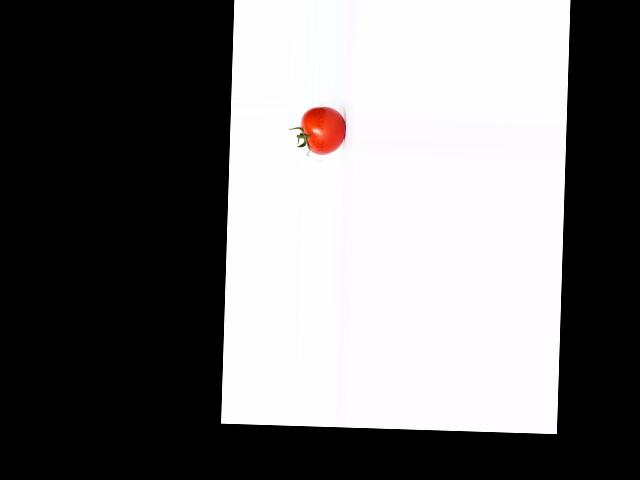tomato: (299, 105, 345, 155)
